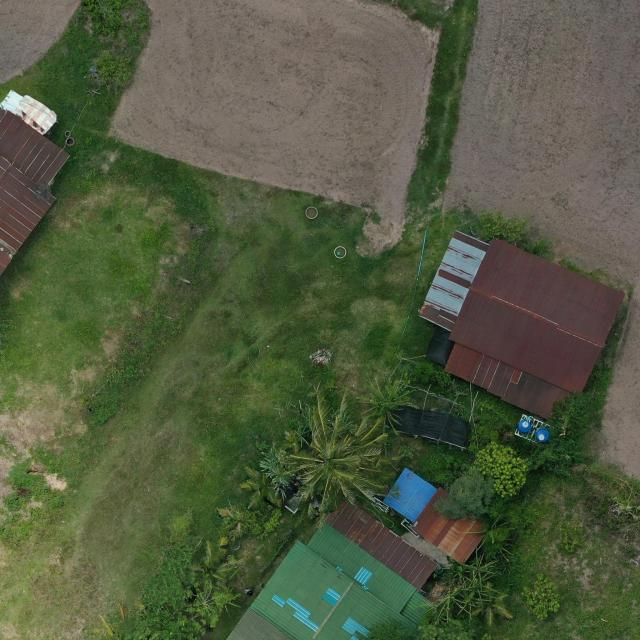banana_tree: (462, 514, 517, 562)
banana_tree2: (418, 585, 478, 626), (462, 548, 501, 588)
tree: (292, 384, 406, 513), (356, 374, 415, 434), (432, 466, 496, 521), (473, 442, 530, 498), (187, 536, 245, 581), (122, 609, 206, 640), (187, 580, 241, 623), (240, 465, 284, 511), (522, 573, 562, 620)
